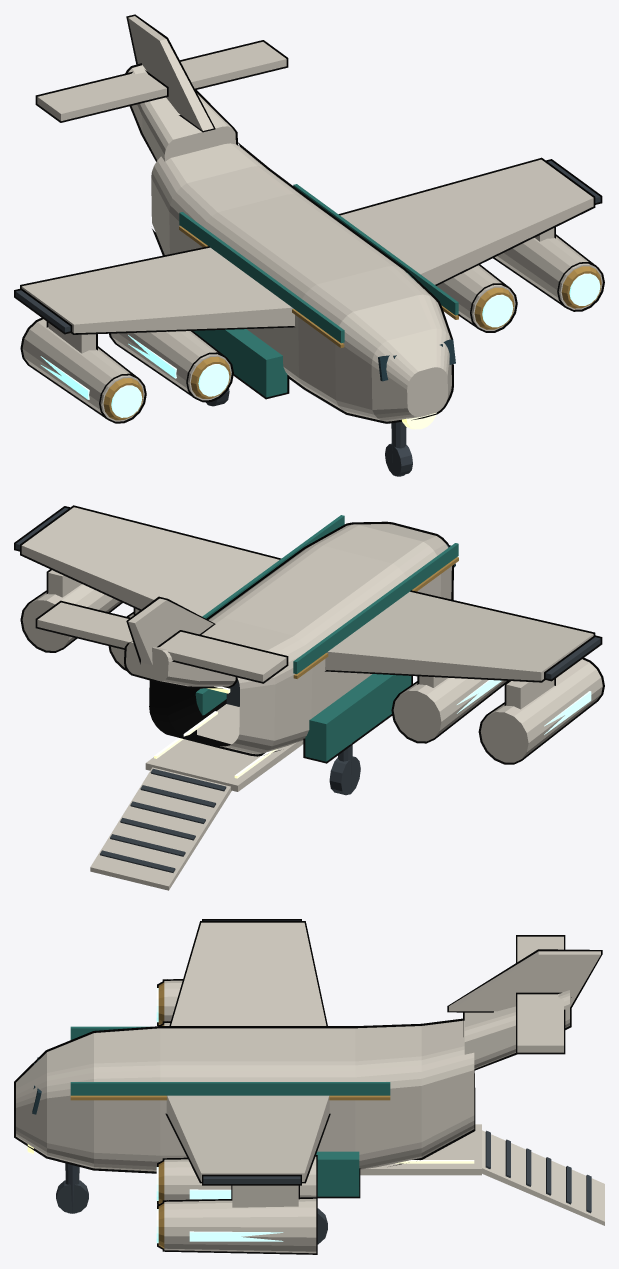
Rendered from Landing_Dropship.glb.
The picture shows the model from 3 angles, top to bottom: view 1: azimuth 30°, elevation 25°; view 2: azimuth 150°, elevation 25°; view 3: azimuth 270°, elevation 25°; orthographic projection.
Visible parts, largest first — view 1: Dropship_Fuselage, Dropship_Wings, Dropship_Pods, Dropship_Tail, Dropship_OutlineHull, Dropship_Banding, Dropship_PodGlow, Dropship_Boom, Dropship_Sponsons, Dropship_Gear; view 2: Dropship_Wings, Dropship_Fuselage, Dropship_Pods, Dropship_OutlineHull, Dropship_Ramp, Dropship_Tail, Dropship_Sponsons, Dropship_Hold, Dropship_Banding, Dropship_Boom, Dropship_Gear, Dropship_PodGlow (+1 smaller); view 3: Dropship_Fuselage, Dropship_Wings, Dropship_Pods, Dropship_Tail, Dropship_OutlineHull, Dropship_Banding, Dropship_Ramp, Dropship_Boom, Dropship_Hold, Dropship_Sponsons, Dropship_PodGlow, Dropship_Gear.
Part boxes in pixels (x1,y1,x2,y2): Dropship_Fuselage: (151, 143, 451, 421); Dropship_Wings: (15, 159, 600, 333); Dropship_Pods: (22, 228, 602, 421); Dropship_Tail: (37, 16, 286, 130); Dropship_OutlineHull: (14, 14, 604, 423); Dropship_Banding: (179, 184, 458, 347); Dropship_PodGlow: (40, 273, 600, 417); Dropship_Boom: (128, 65, 235, 161); Dropship_Sponsons: (193, 329, 287, 397); Dropship_Gear: (206, 389, 412, 476); Dropship_Wings: (15, 507, 600, 680); Dropship_Fuselage: (201, 524, 451, 754); Dropship_Pods: (22, 570, 602, 762); Dropship_OutlineHull: (14, 505, 604, 764); Dropship_Ramp: (90, 767, 231, 890); Dropship_Tail: (37, 598, 286, 681); Dropship_Sponsons: (195, 674, 411, 761); Dropship_Hold: (145, 679, 303, 791); Dropship_Banding: (202, 515, 458, 678); Dropship_Boom: (126, 643, 235, 686); Dropship_Gear: (329, 743, 360, 795); Dropship_PodGlow: (457, 680, 591, 734); Dropship_Fuselage: (16, 1020, 474, 1171); Dropship_Wings: (166, 920, 329, 1183); Dropship_Pods: (158, 980, 316, 1253); Dropship_Tail: (449, 936, 600, 1052); Dropship_OutlineHull: (14, 919, 602, 1254); Dropship_Banding: (70, 1026, 390, 1100); Dropship_Ramp: (482, 1130, 604, 1225); Dropship_Boom: (464, 990, 569, 1068); Dropship_Hold: (360, 1124, 481, 1175); Dropship_Sponsons: (316, 1151, 359, 1196); Dropship_PodGlow: (156, 988, 283, 1243); Dropship_Gear: (56, 1163, 327, 1244).
Size of the model in its own units: 15.73 by 7.38 by 15.15.
